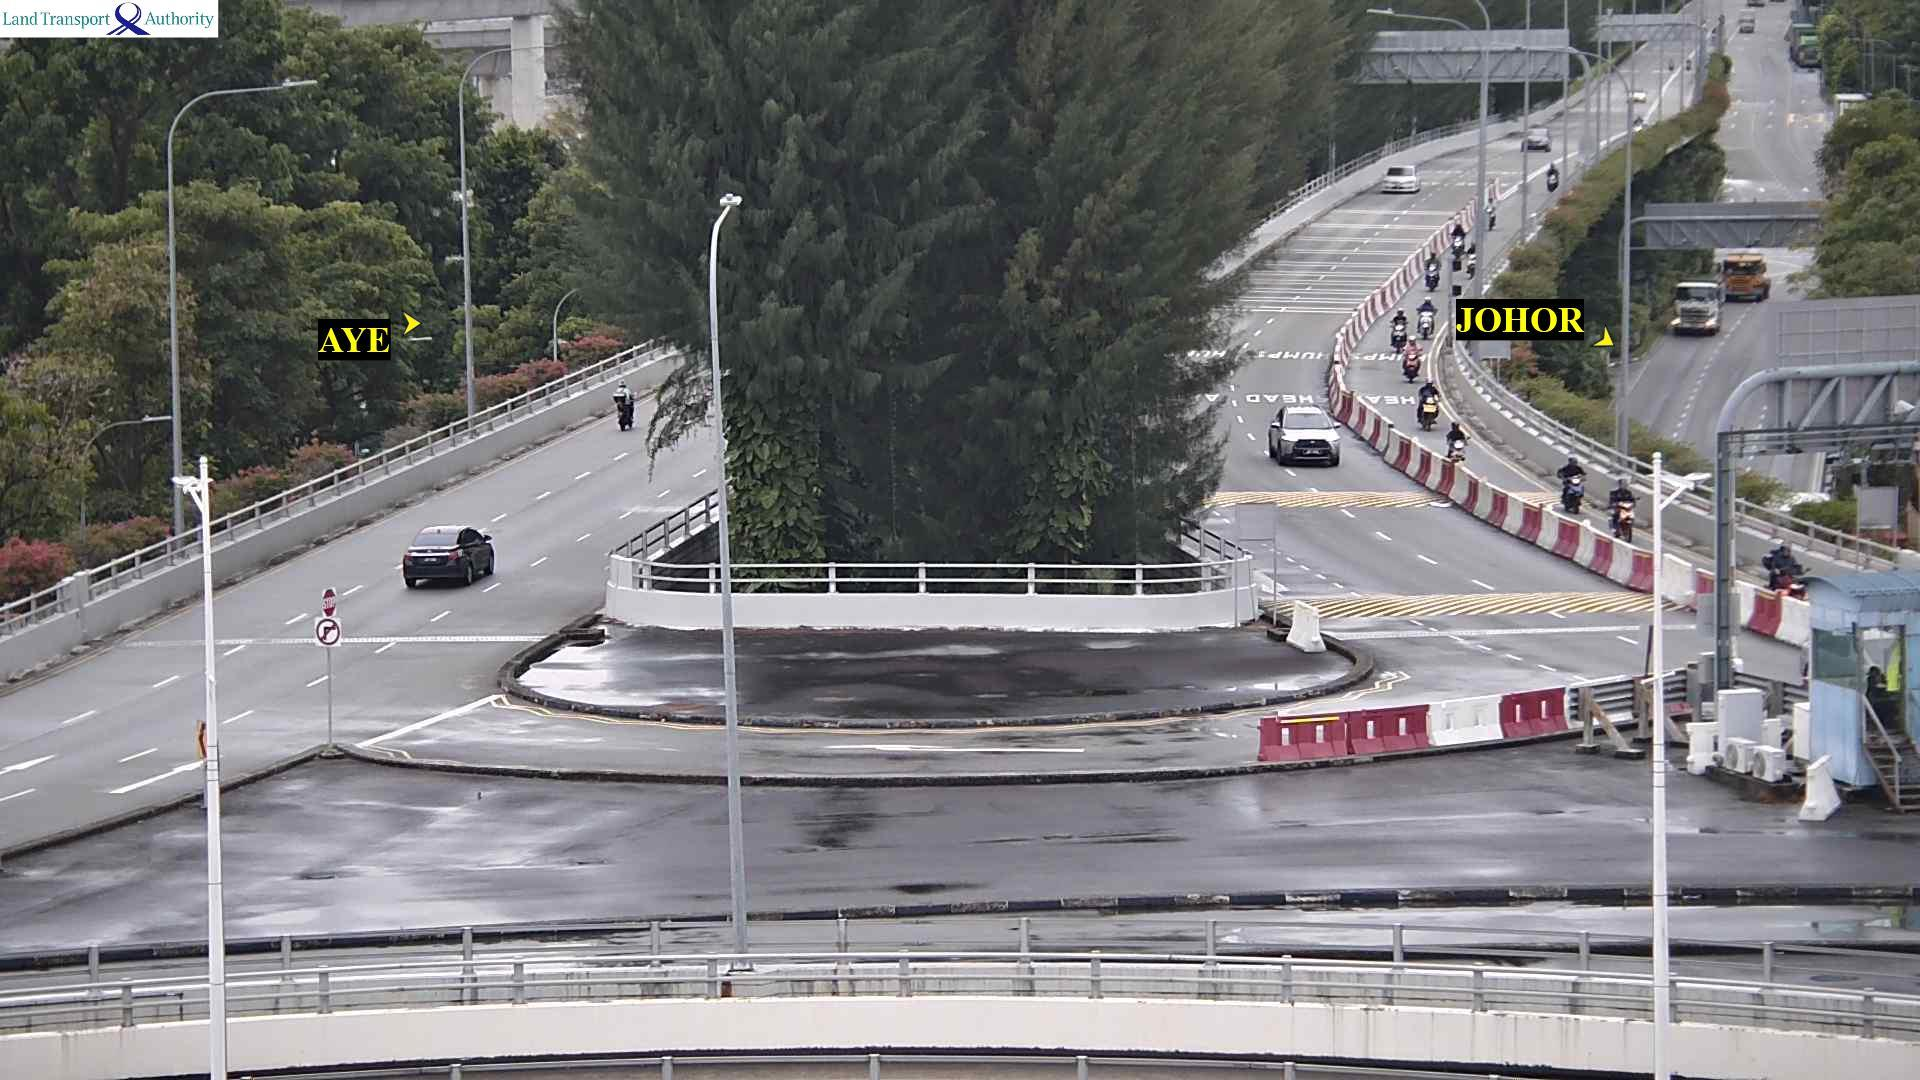vehicle-secondlink-johor: (1267, 398, 1337, 469), (1767, 541, 1803, 596), (1609, 469, 1635, 534), (1557, 452, 1584, 506), (1381, 165, 1418, 194), (1400, 334, 1419, 378), (1419, 384, 1439, 423), (1420, 299, 1437, 340), (1452, 421, 1466, 467), (1526, 129, 1552, 150), (1451, 223, 1462, 258), (1547, 162, 1559, 190), (1469, 240, 1481, 268), (1394, 307, 1402, 348), (1427, 253, 1436, 286)
vehicle-secondlink-singapore: (404, 524, 491, 589), (613, 378, 641, 436)
